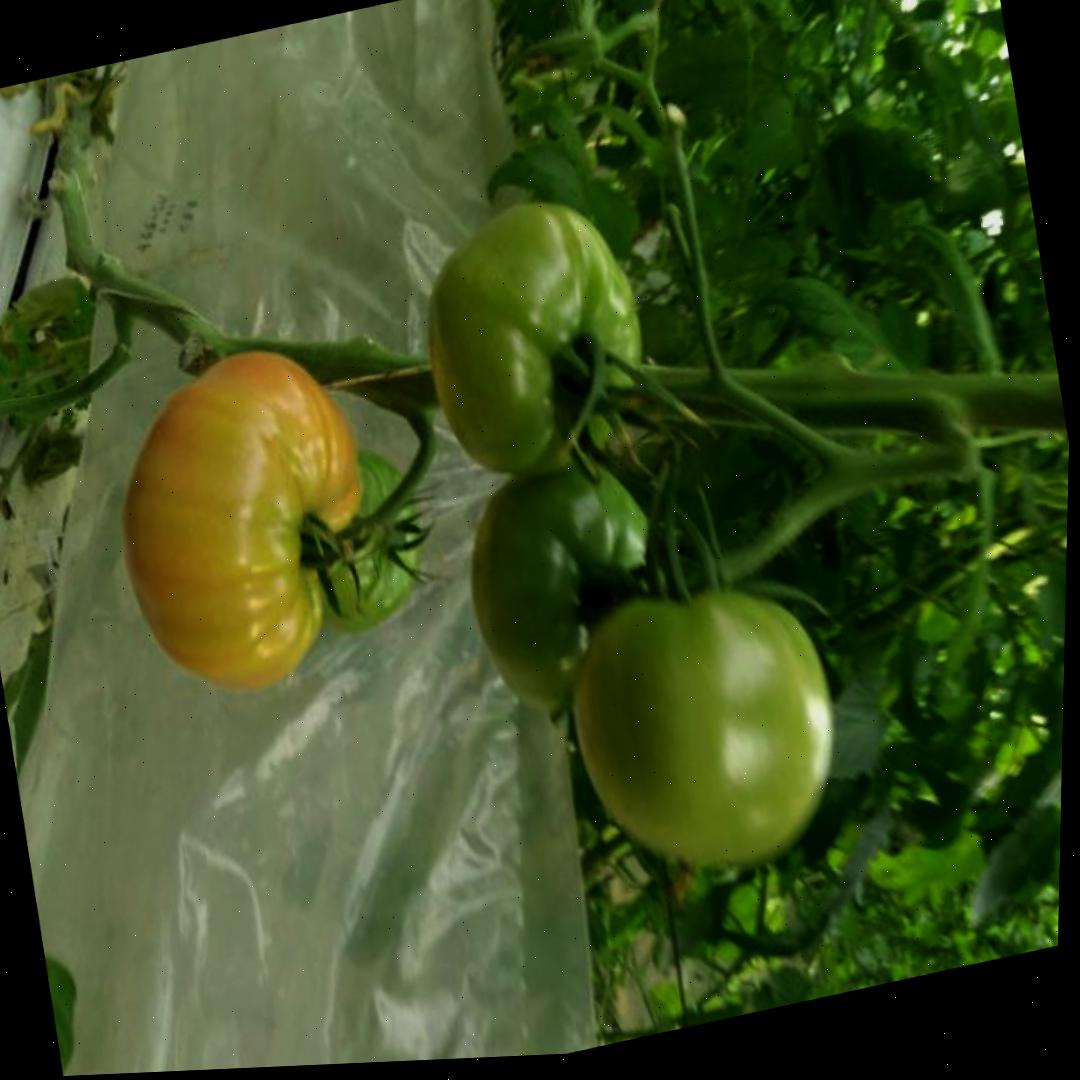mentah: (551, 552, 857, 897), (402, 175, 669, 498)
setengah_matang: (85, 322, 398, 719)
